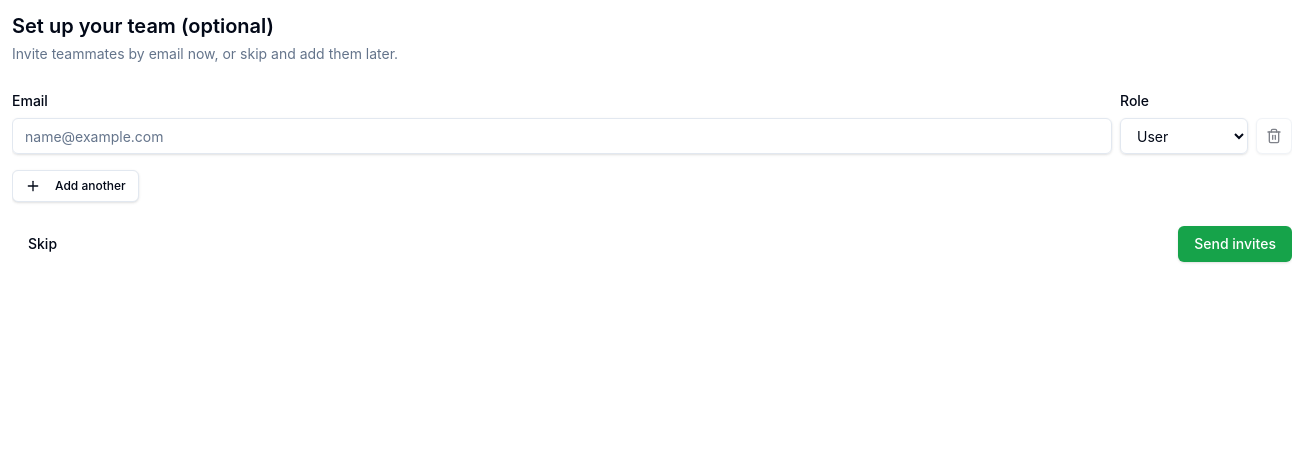
Test: InviteStep fan-out › (b) on partial failure stays on the step, shows an error and per-row status
Click the button "Add another" at (75, 186), box [12,170,139,202]
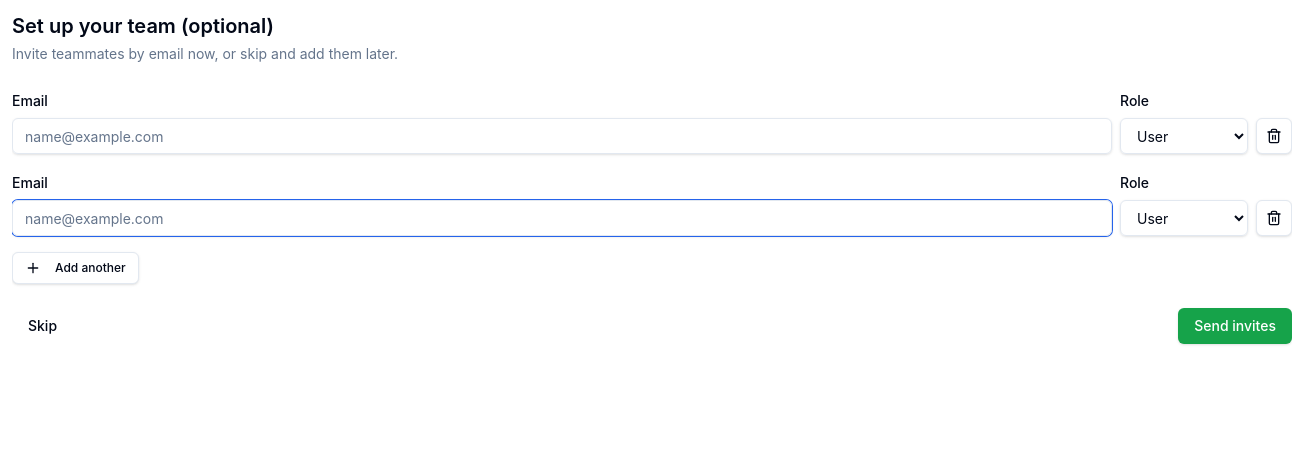
Type "good@example.com" into the 1st field labelled "Email" at (562, 136), box [12,118,1112,154]
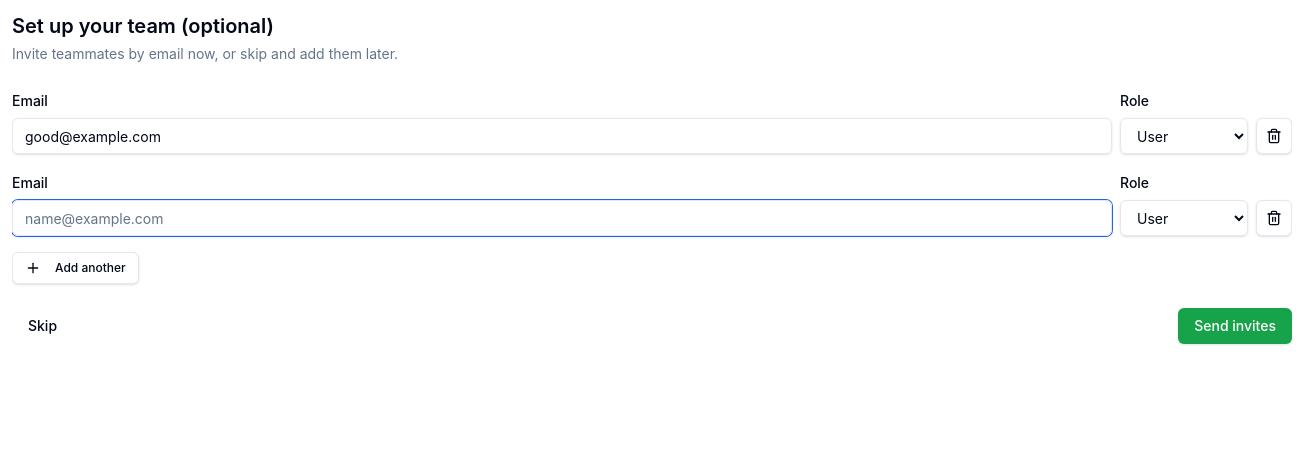
Type "bad@example.com" into the 2nd field labelled "Email" at (562, 218), box [12,200,1112,236]
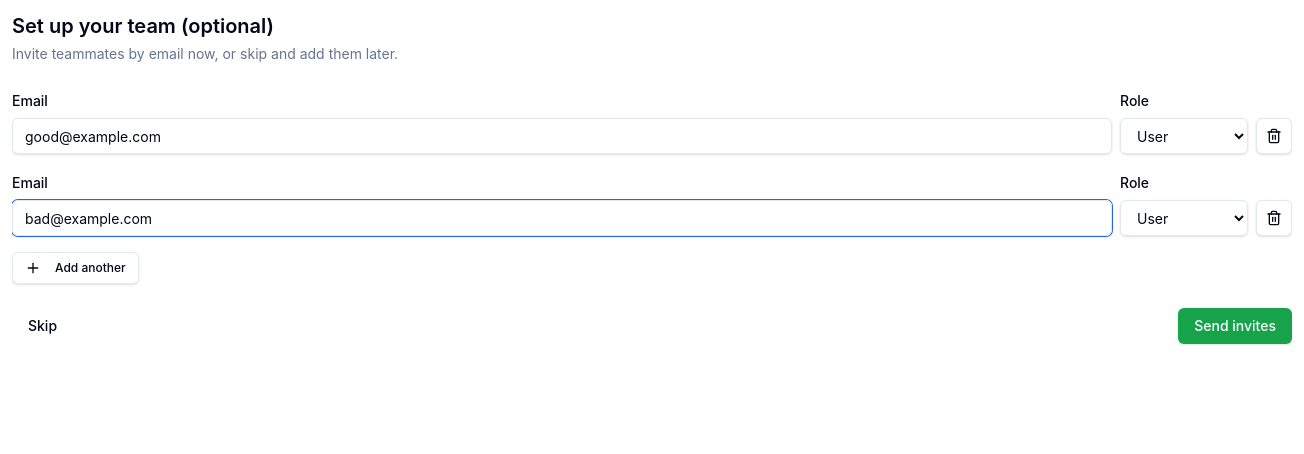
Click the button "Send invites" at (1235, 326), box [1178,308,1292,344]
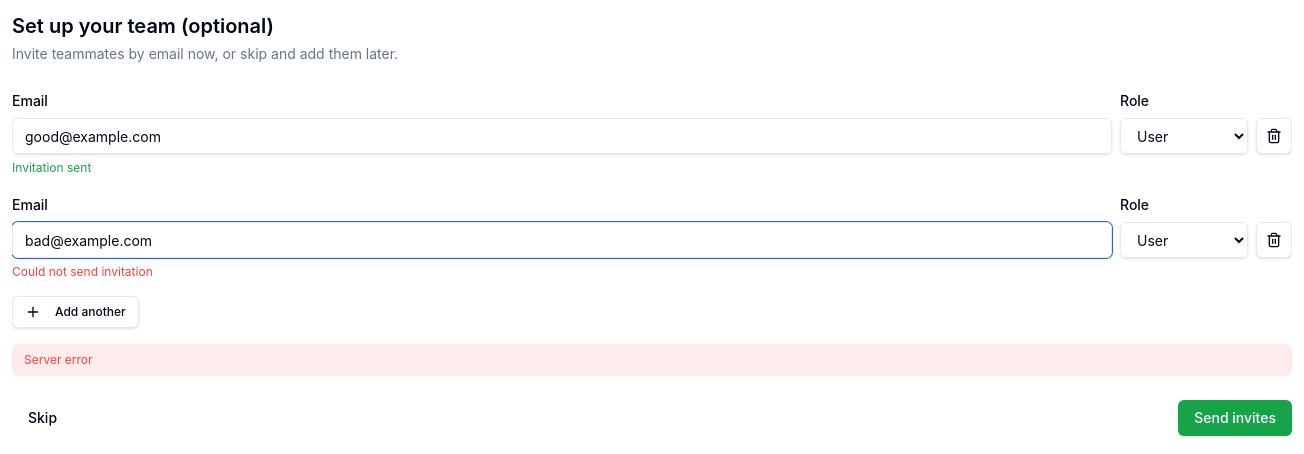
Check: the text "Server error" is shown, box [12,344,1292,376]
Check: the text "Invitation sent" is shown, box [12,160,91,175]
Check: the text "Could not send invitation" is shown, box [12,264,153,279]
